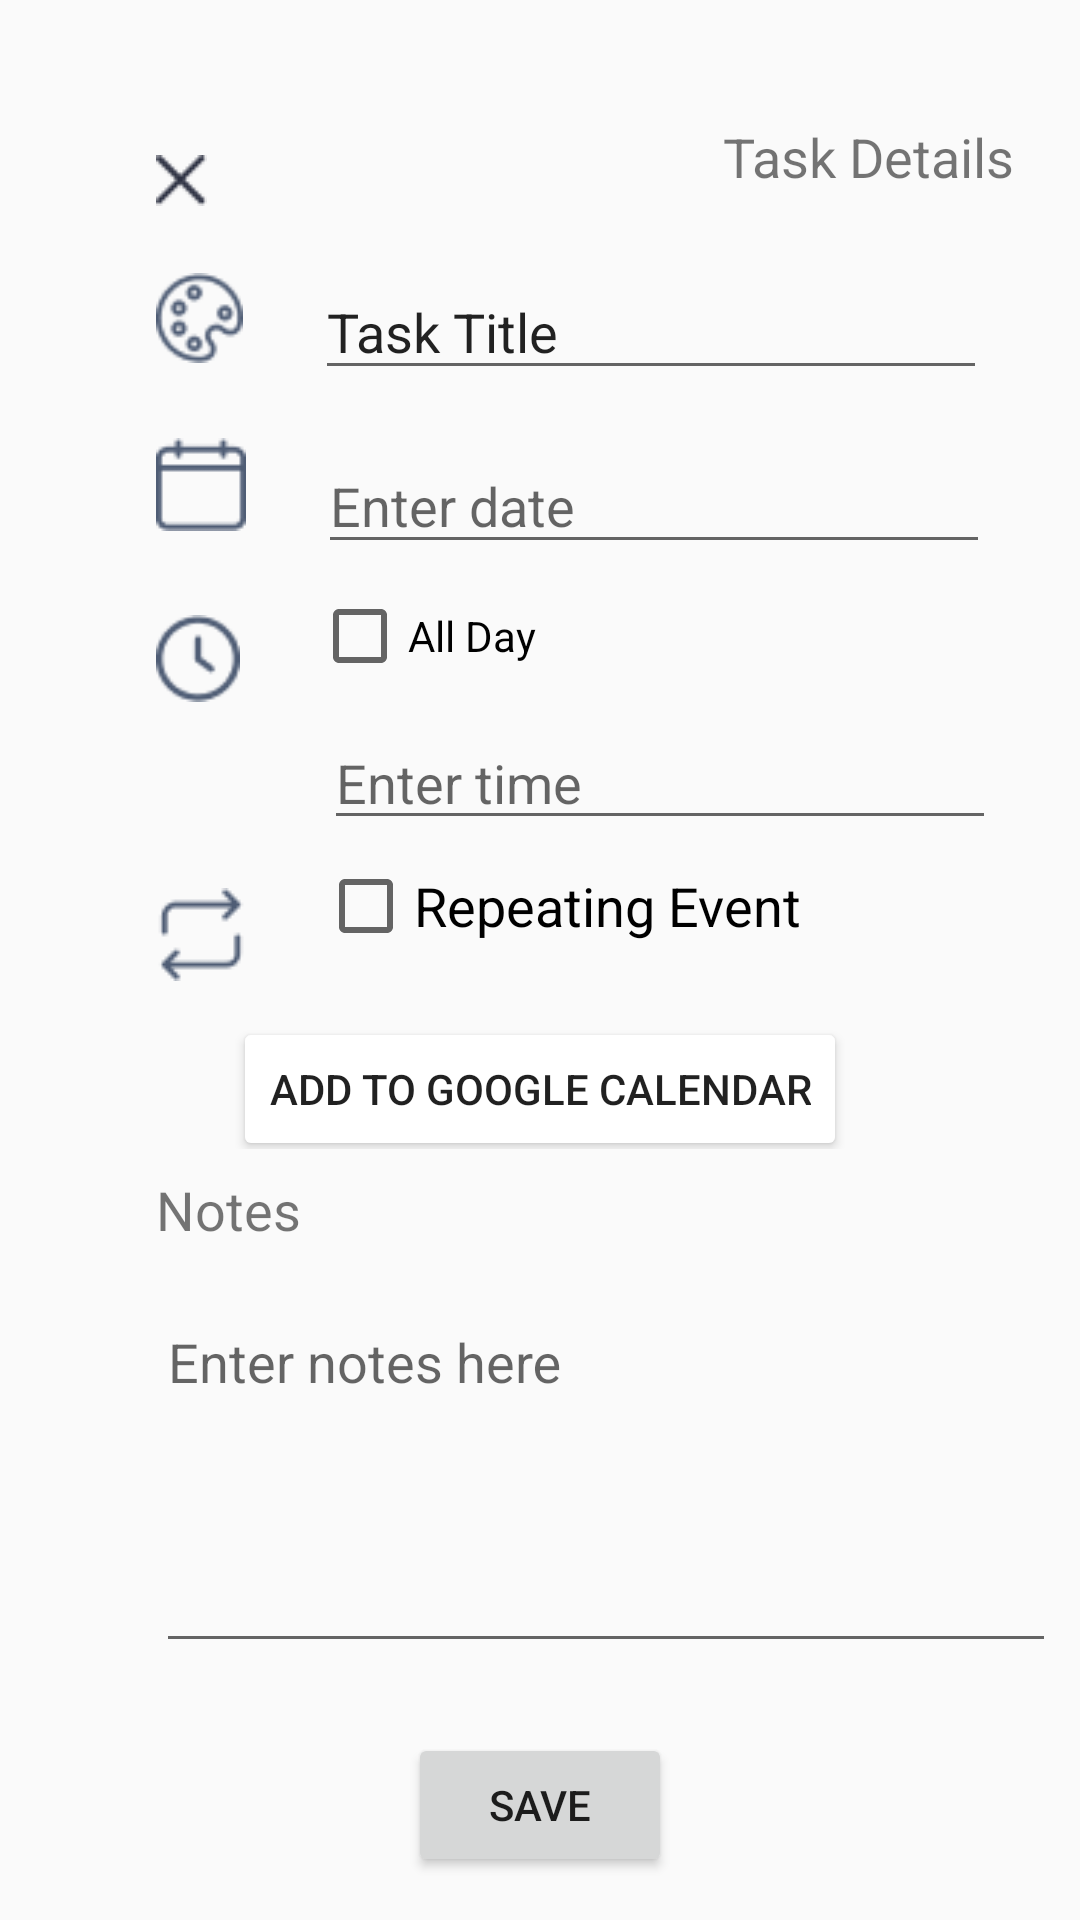

Icon bounding boxes for this 1080w x 1920h phone screenshot, format BBox(x1, y1, x2, y2):
calendar: BBox(156, 438, 246, 531)
clock: BBox(156, 615, 240, 702)
Exit button: BBox(156, 155, 207, 206)
palette: BBox(156, 273, 243, 363)
